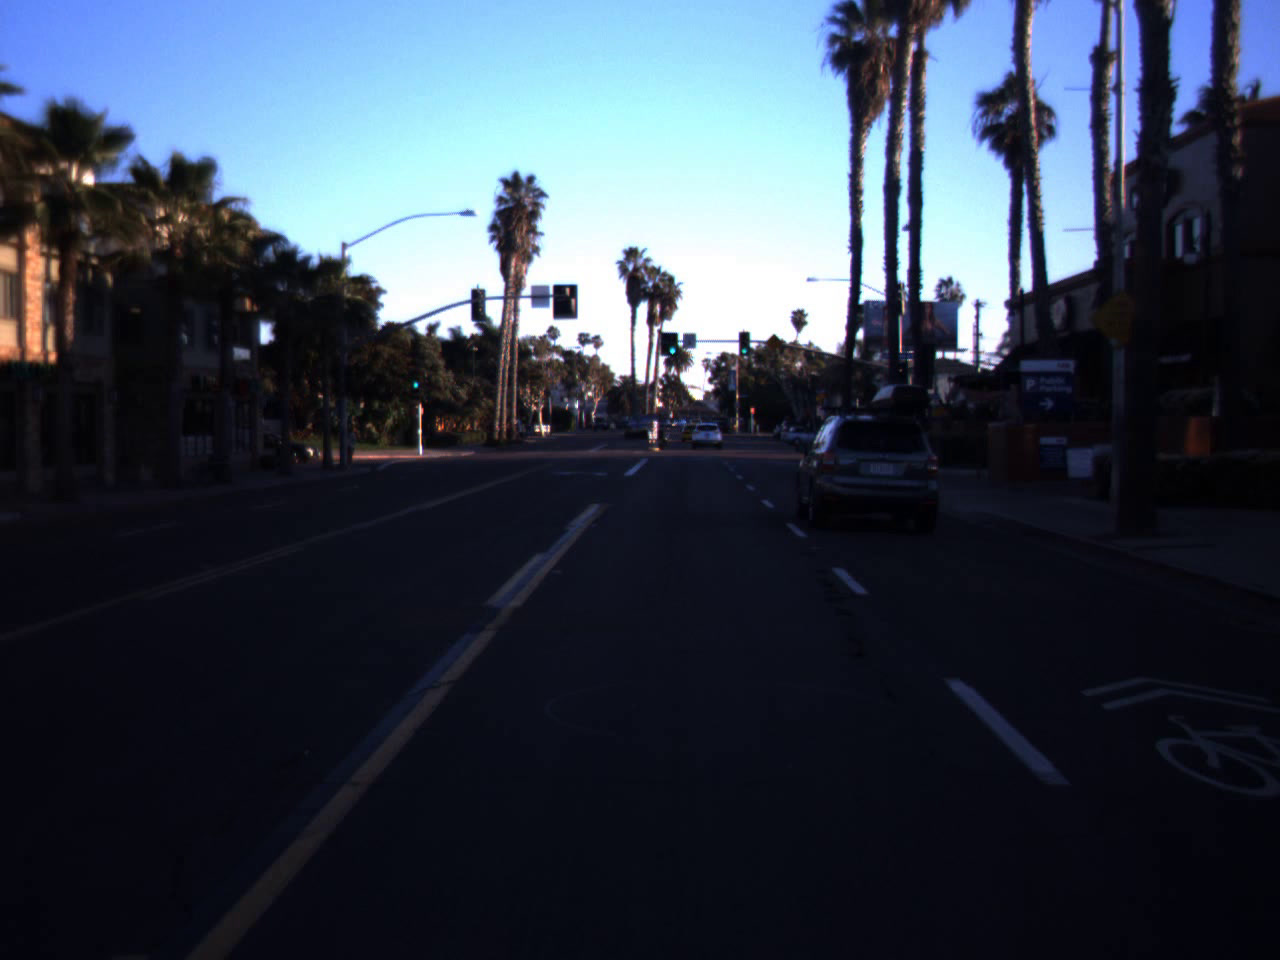go: (665, 331, 680, 356), (409, 369, 421, 389), (738, 335, 750, 355)
